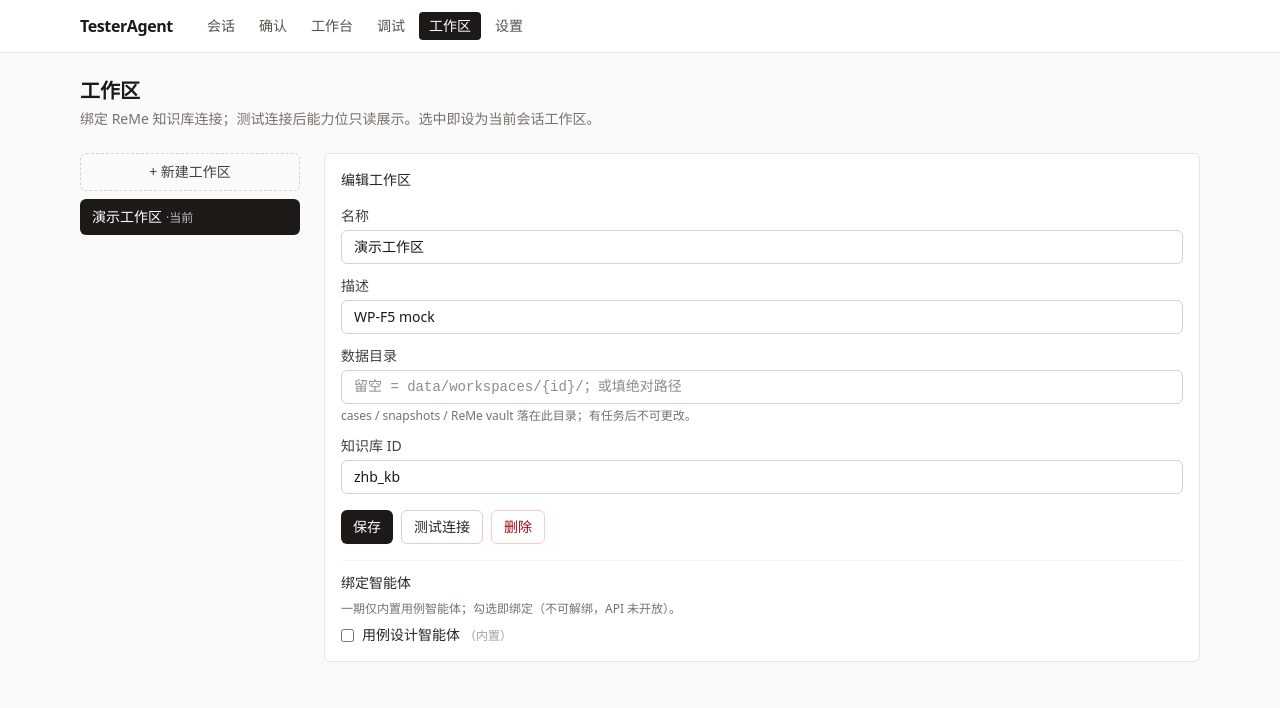
WP-F5 WorkspacesPage › 选中工作区后测试连接展示只读能力位
The image size is (1280, 708).
Click the button with test id "ws-item-ws-f5": point(190, 217) [80, 199, 300, 235]
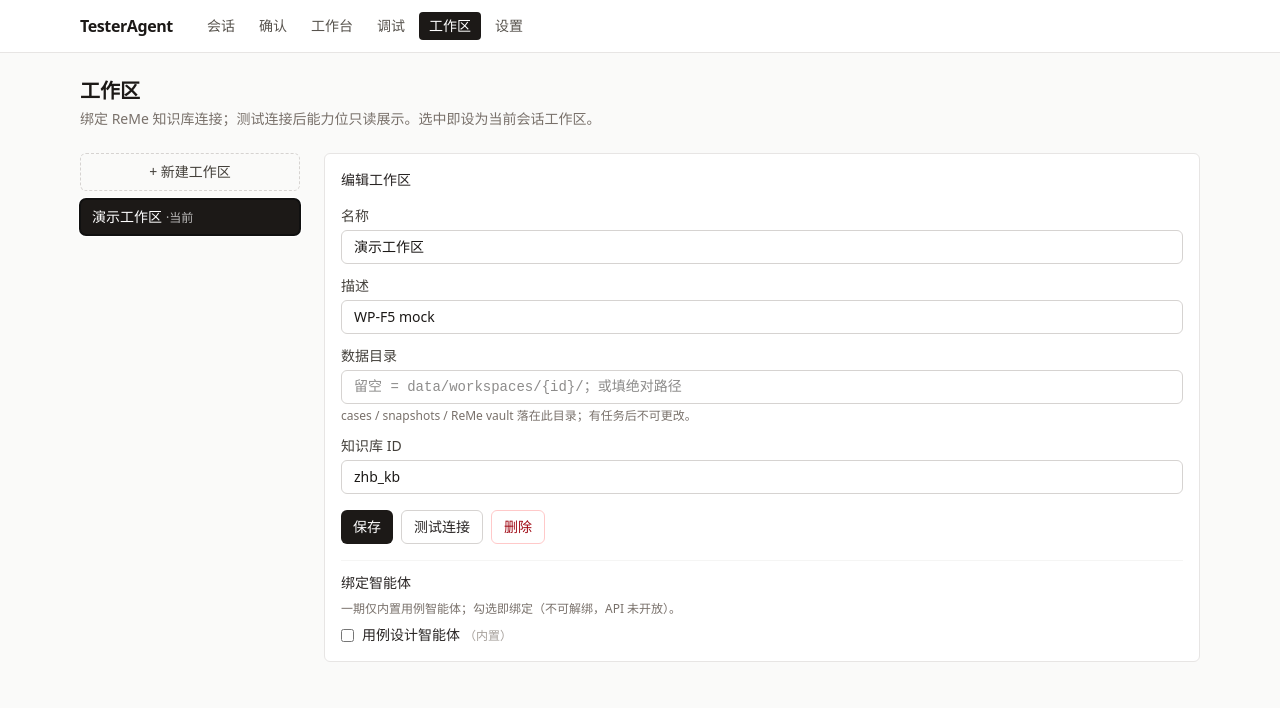
Click the button with test id "kb-test-btn": point(442, 527) [401, 510, 483, 544]
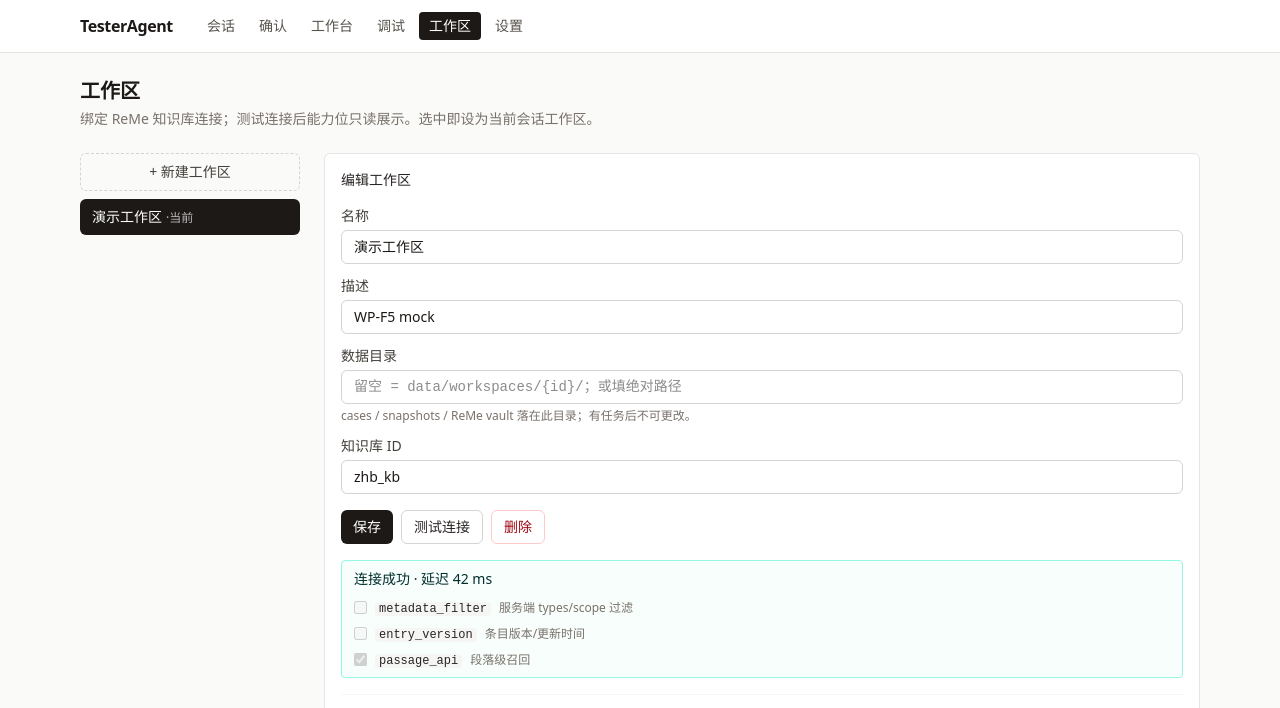
Expected: the checkbox labelled "metadata_filter" is disabled, [354, 600, 367, 614]
Expected: the checkbox labelled "entry_version" is disabled, [354, 626, 367, 640]
Expected: the checkbox labelled "passage_api" is disabled, [354, 652, 367, 666]
